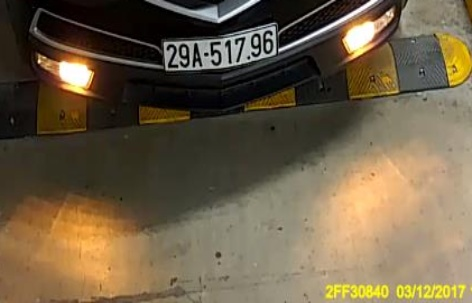plate: (159, 25, 281, 76)
